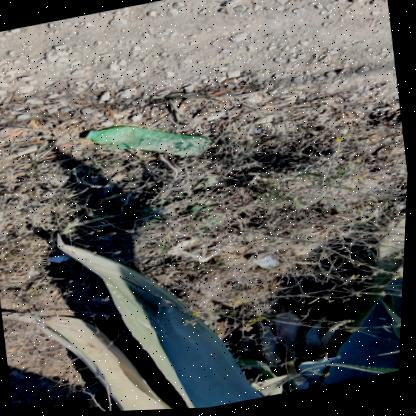Metal: (251, 253, 280, 270)
Plastic: (83, 126, 211, 156), (169, 238, 235, 263)
Waste: (49, 255, 71, 261), (83, 130, 95, 139)
